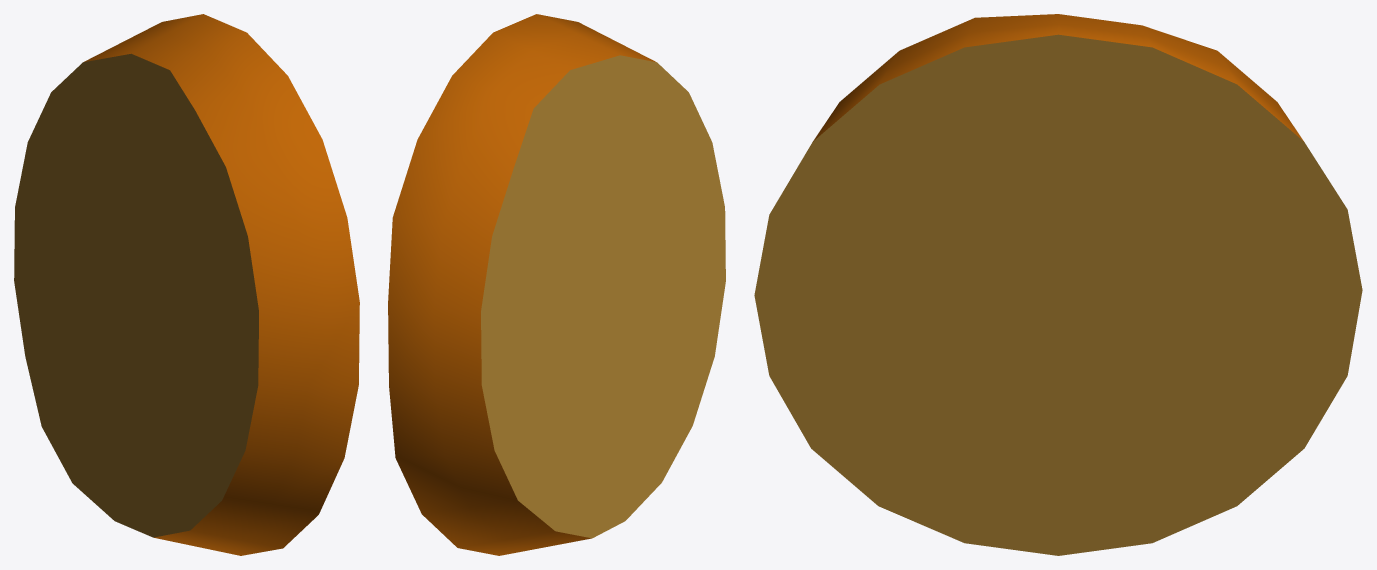
Rendered from mesh_CarrotSlice_Stage12.fbx.
The picture shows the model from 3 angles, left to right: view 1: azimuth 30°, elevation 25°; view 2: azimuth 150°, elevation 25°; view 3: azimuth 270°, elevation 25°; orthographic projection. The views are drawn at different scales.
Parts seen in each view (by area): view 1: mesh_CarrotSlice_Stage12; view 2: mesh_CarrotSlice_Stage12; view 3: mesh_CarrotSlice_Stage12.
Part boxes in pixels (<box>): mesh_CarrotSlice_Stage12: <box>14,14,359,555</box>; mesh_CarrotSlice_Stage12: <box>388,14,725,555</box>; mesh_CarrotSlice_Stage12: <box>754,14,1362,555</box>.
Size of the model in its own units: 0.0148 by 0.0508 by 0.051.
